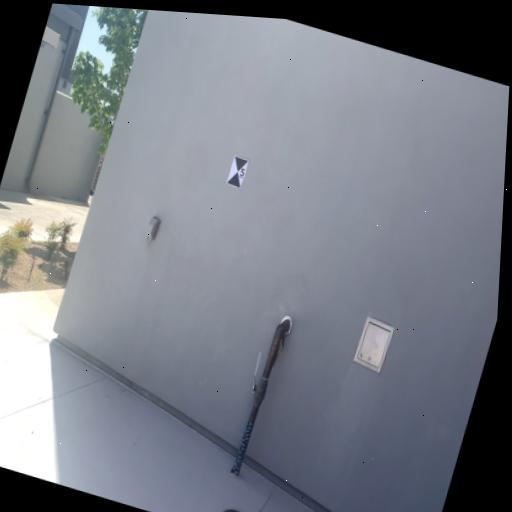target5: (226, 154, 251, 190)
